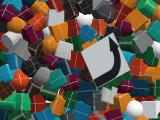Left: (80, 32, 130, 88)
